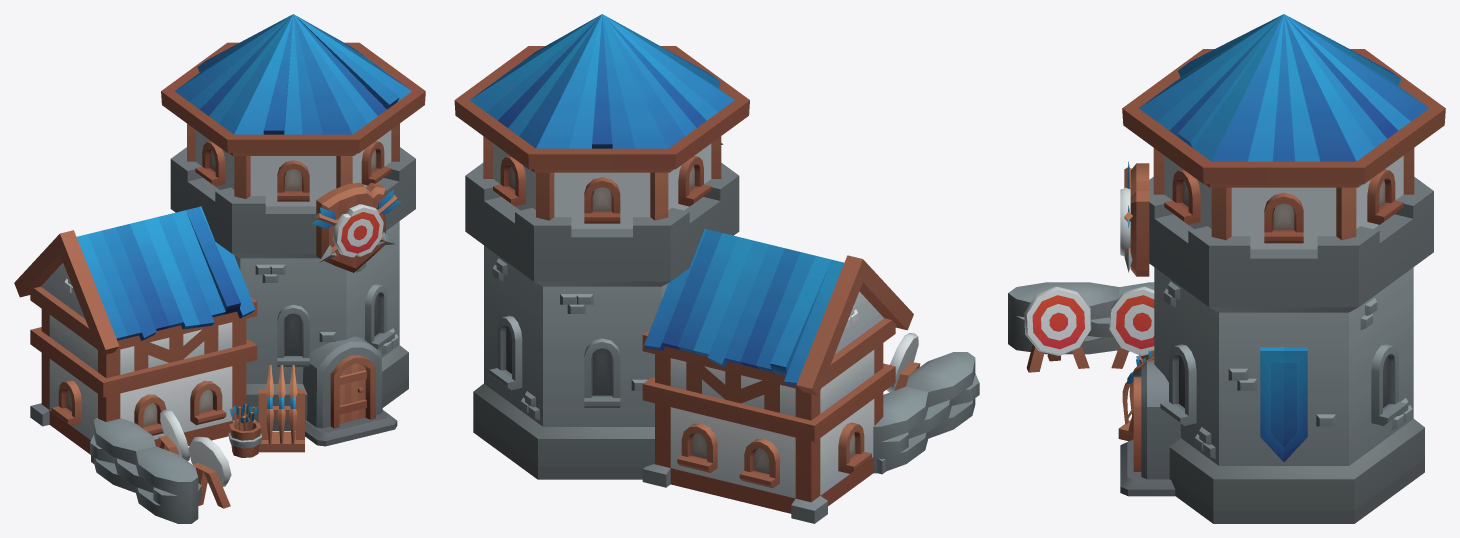
The model's file is archeryrange_blue.glb.
3 renders of one model, left to right at view 1: azimuth 30°, elevation 25°; view 2: azimuth 150°, elevation 25°; view 3: azimuth 270°, elevation 25°, orthographic. The views are drawn at different scales.
Visible parts, largest first — view 1: building_archeryrange_blue; view 2: building_archeryrange_blue; view 3: building_archeryrange_blue.
Boxes of the visible parts, box(x1,y1,x2,y2) form: building_archeryrange_blue: box(14, 14, 425, 523); building_archeryrange_blue: box(454, 14, 979, 523); building_archeryrange_blue: box(1008, 14, 1445, 523).
Size of the model in its own units: 1.67 by 1.79 by 1.55.
Materials: 1 (1 with a texture image).
